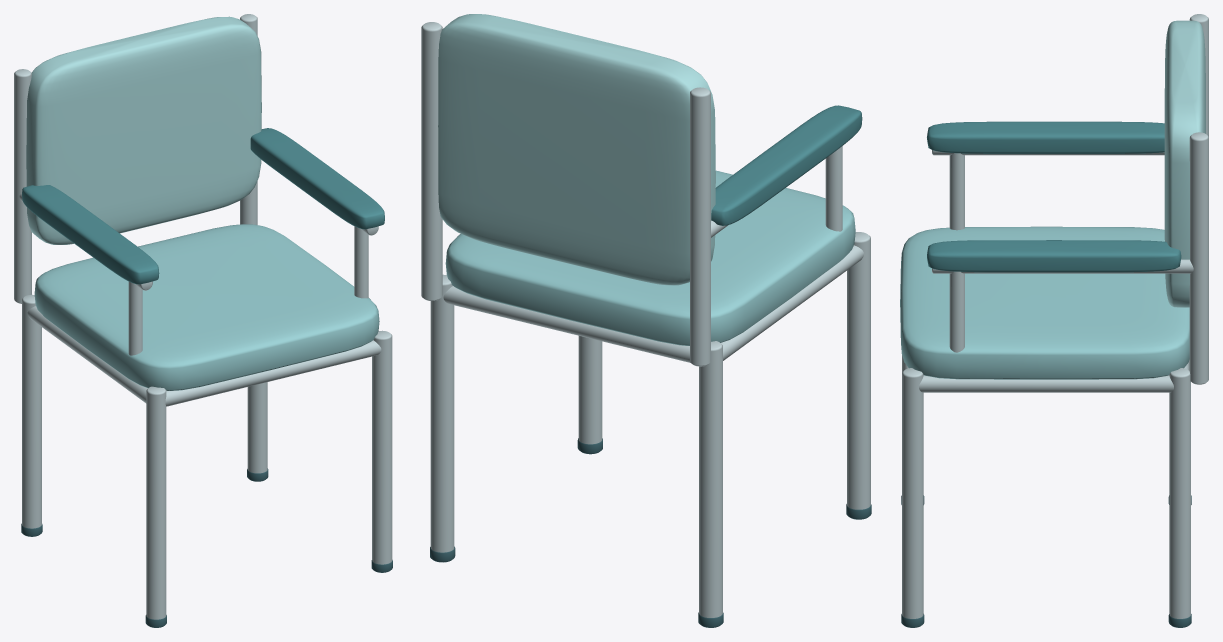
The model's file is visitor_chair.glb.
The picture shows the model from 3 angles, left to right: view 1: azimuth 30°, elevation 25°; view 2: azimuth 150°, elevation 25°; view 3: azimuth 270°, elevation 25°; orthographic projection. The views are drawn at different scales.
Visible parts, largest first — view 1: Back_Cushion, Seat_Cushion, Armrest_0, Armrest_1, Chair_Leg_2, Chair_Leg_3, Chair_Leg_0, Back_Post_0, Seat_Front_Rail, Chair_Leg_1, Seat_Side_Rail_0, Arm_Front_Stem_0 (+2 smaller); view 2: Back_Cushion, Seat_Cushion, Armrest_0, Chair_Leg_1, Chair_Leg_0, Chair_Leg_2, Back_Post_0, Back_Post_1, Seat_Back_Rail, Chair_Leg_3, Seat_Side_Rail_0, Arm_Front_Stem_0; view 3: Seat_Cushion, Back_Cushion, Armrest_1, Armrest_0, Chair_Leg_3, Chair_Leg_1, Back_Post_1, Seat_Side_Rail_1, Arm_Front_Stem_1, Arm_Front_Stem_0, Arm_Support_1, Back_Post_0 (+1 smaller).
Boxes of the visible parts, x1,y1,x2,y2 form: Back_Cushion: (26, 16, 261, 244); Seat_Cushion: (34, 224, 379, 390); Armrest_0: (22, 185, 159, 284); Armrest_1: (250, 128, 384, 229); Chair_Leg_2: (146, 386, 166, 619); Chair_Leg_3: (372, 330, 392, 564); Chair_Leg_0: (22, 294, 41, 528); Back_Post_0: (14, 69, 31, 303); Seat_Front_Rail: (165, 340, 381, 406); Chair_Leg_1: (247, 382, 267, 473); Seat_Side_Rail_0: (27, 306, 147, 403); Arm_Front_Stem_0: (128, 281, 142, 355); Back_Cushion: (438, 14, 715, 285); Seat_Cushion: (445, 170, 855, 345); Armrest_0: (711, 105, 862, 225); Chair_Leg_1: (430, 274, 454, 552); Chair_Leg_0: (699, 341, 722, 617); Chair_Leg_2: (847, 232, 870, 509); Back_Post_0: (690, 87, 710, 366); Back_Post_1: (421, 22, 442, 300); Seat_Back_Rail: (443, 286, 690, 362); Chair_Leg_3: (578, 336, 602, 444); Seat_Side_Rail_0: (721, 245, 863, 360); Arm_Front_Stem_0: (825, 146, 842, 231); Seat_Cushion: (900, 226, 1189, 379); Back_Cushion: (1164, 20, 1205, 307); Armrest_1: (927, 240, 1181, 272); Armrest_0: (927, 121, 1164, 153); Chair_Leg_3: (902, 368, 923, 618); Chair_Leg_1: (1169, 368, 1190, 618); Back_Post_1: (1189, 132, 1208, 384); Seat_Side_Rail_1: (919, 375, 1173, 392); Arm_Front_Stem_1: (949, 271, 964, 352); Arm_Front_Stem_0: (949, 153, 964, 230); Arm_Support_1: (932, 259, 1193, 273); Back_Post_0: (1189, 14, 1208, 136).
Bounding box in the file's own units: 0.5 × 0.865 × 0.485.
